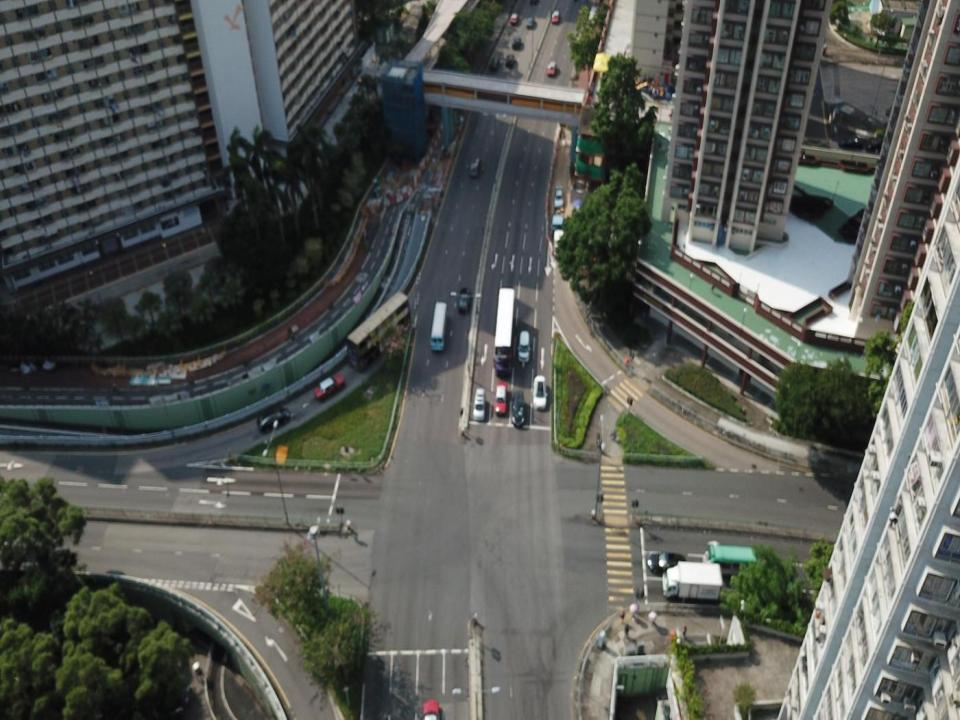bus: (346, 289, 412, 372), (493, 287, 516, 376), (702, 545, 757, 580), (429, 300, 448, 352)
car: (646, 550, 688, 577), (256, 405, 293, 433), (313, 372, 345, 401), (531, 374, 548, 411), (511, 389, 526, 429), (516, 329, 532, 363), (494, 381, 507, 417), (473, 387, 486, 422), (457, 286, 471, 315), (552, 185, 565, 209), (547, 58, 558, 77), (488, 57, 501, 72), (504, 53, 516, 69), (550, 8, 561, 25), (509, 10, 520, 26), (525, 13, 536, 28), (512, 36, 523, 50)
truck: (662, 560, 722, 603)
van: (468, 154, 483, 178)
